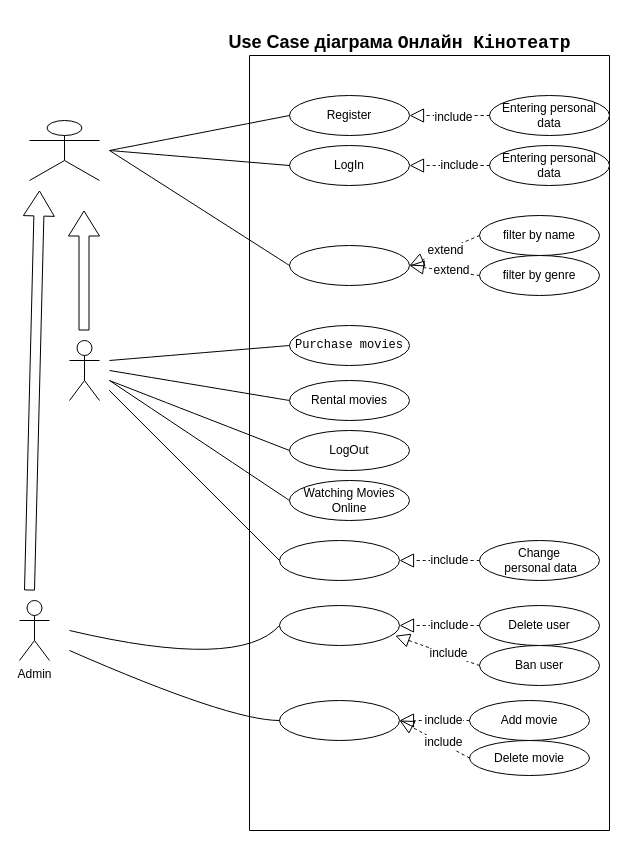
This 627x848 diagram has some shape labels left out. The centre of each missing label's shape, as x and y in pixels:
Manage Content: (x=339, y=720)
Manage profile: (x=339, y=560)
Manage user profile: (x=339, y=625)
RegisterUser: (x=84, y=370)
User: (x=64, y=150)
View Movie Catalog: (x=349, y=265)
